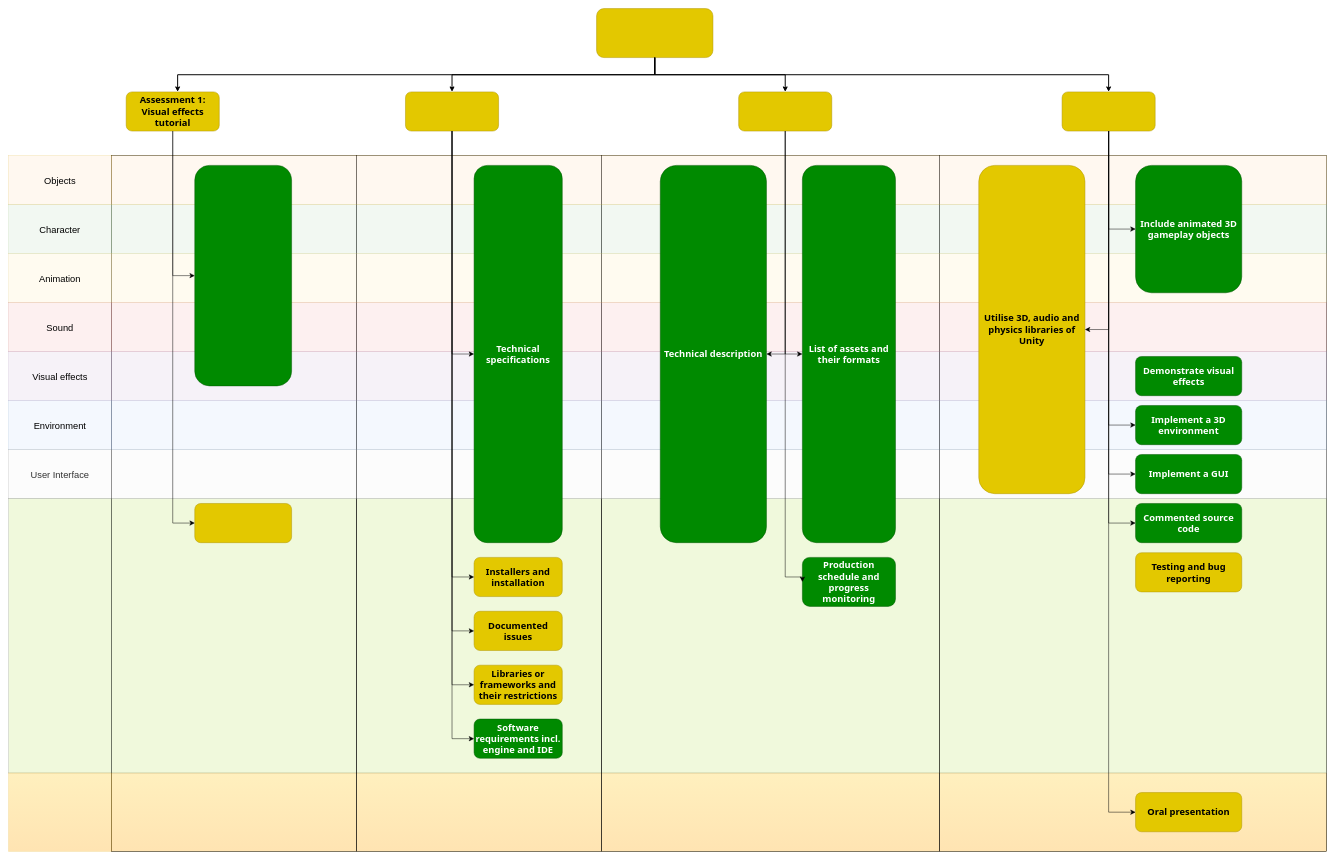
Image size: 1335x860. Some labels were removed from this diagram. Here are the shapes that lost their labels. From the top down, the centre of each, then its label:
[654,33]: Prototype build
[452,111]: Assessment 2: Research workbook
[785,111]: Assessment 3: Technical design document
[1108,111]: Assessment 4: Create, test & deploy
[243,275]: Complete the tutorial
[243,523]: Build and test on mobile
[59,635]: Build
[59,811]: Other
